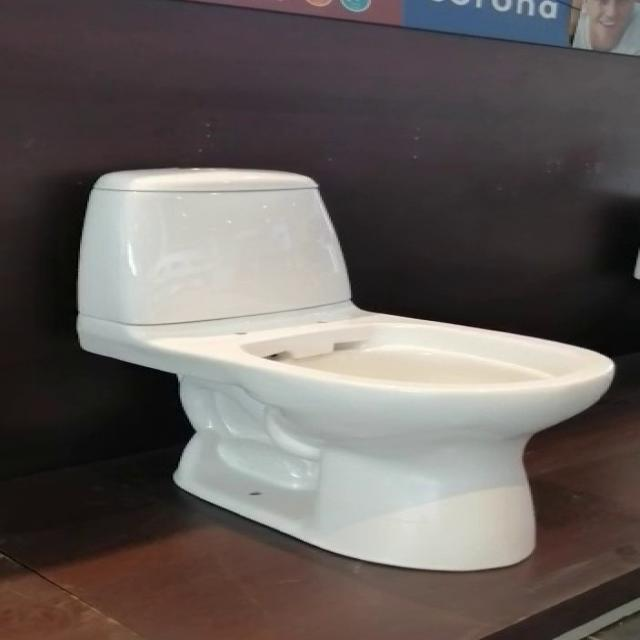toilet: (67, 160, 621, 576)
